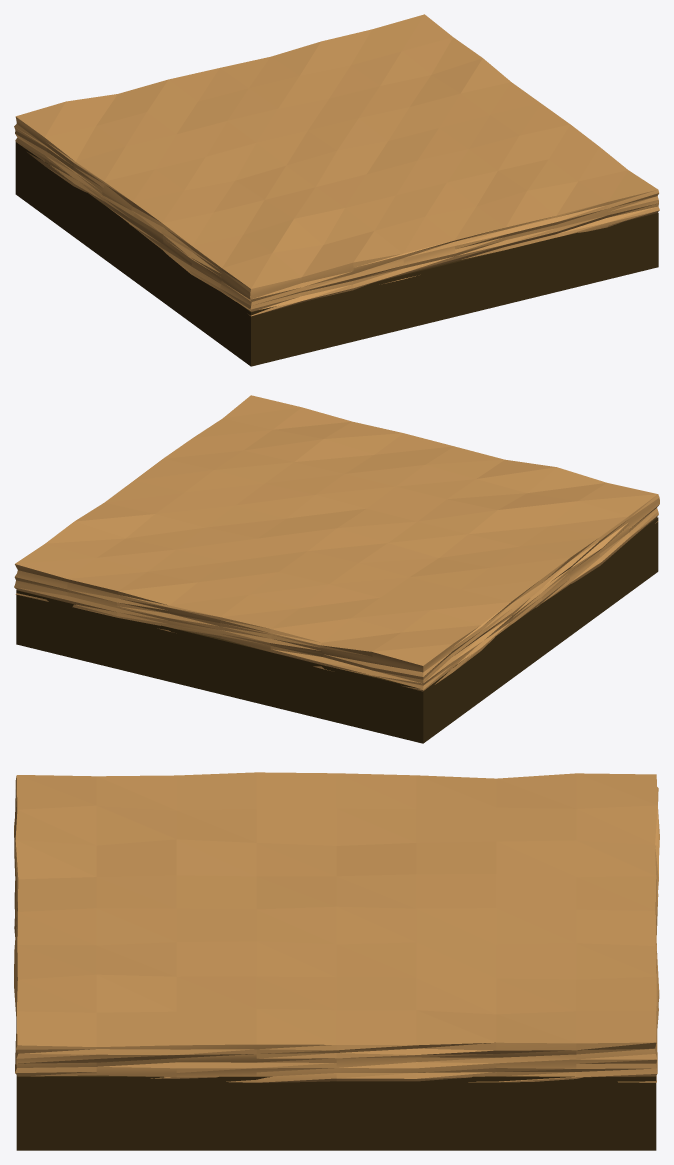
File: FLOOR3.fbx
The picture shows the model from 3 angles, top to bottom: view 1: azimuth 30°, elevation 25°; view 2: azimuth 150°, elevation 25°; view 3: azimuth 270°, elevation 25°; orthographic projection. The views are drawn at different scales.
Visible parts, largest first — view 1: Cube_2, Cube, Cube_1; view 2: Cube_2, Cube, Cube_1; view 3: Cube_2, Cube, Cube_1.
Part boxes in pixels (<box>): Cube_2: <box>14,14,659,316</box>; Cube: <box>15,167,658,366</box>; Cube_1: <box>15,142,658,339</box>; Cube_2: <box>14,395,659,691</box>; Cube: <box>16,545,658,743</box>; Cube_1: <box>16,517,658,716</box>; Cube_2: <box>14,772,659,1082</box>; Cube: <box>16,1113,656,1150</box>; Cube_1: <box>16,1075,656,1113</box>.
Bounding box in the file's own units: 405 × 75.24 × 404.
